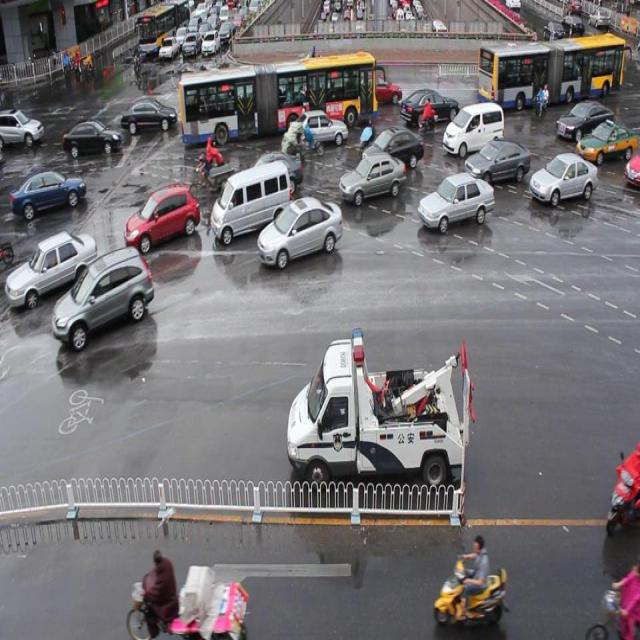bus: (287, 325, 472, 492)
car: (52, 249, 154, 347), (0, 229, 96, 308), (256, 194, 341, 268), (126, 187, 201, 249), (420, 172, 493, 230), (337, 153, 406, 203), (11, 169, 86, 215), (529, 153, 596, 204), (443, 103, 503, 157), (360, 128, 424, 171), (575, 121, 640, 162), (466, 142, 530, 180), (243, 152, 303, 192), (401, 88, 459, 126), (295, 107, 348, 148), (556, 103, 615, 139), (63, 120, 122, 155), (120, 98, 178, 132), (352, 70, 402, 105)
truck: (210, 164, 290, 241)
van: (182, 55, 376, 144), (479, 36, 624, 105)
